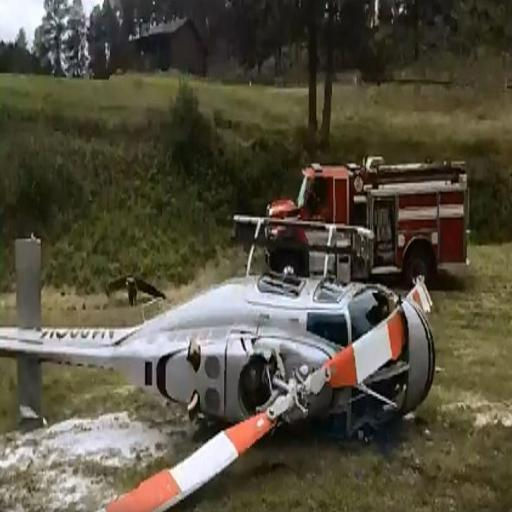helicopter: (2, 219, 440, 502)
